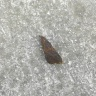Dog: (38, 35, 63, 65)
